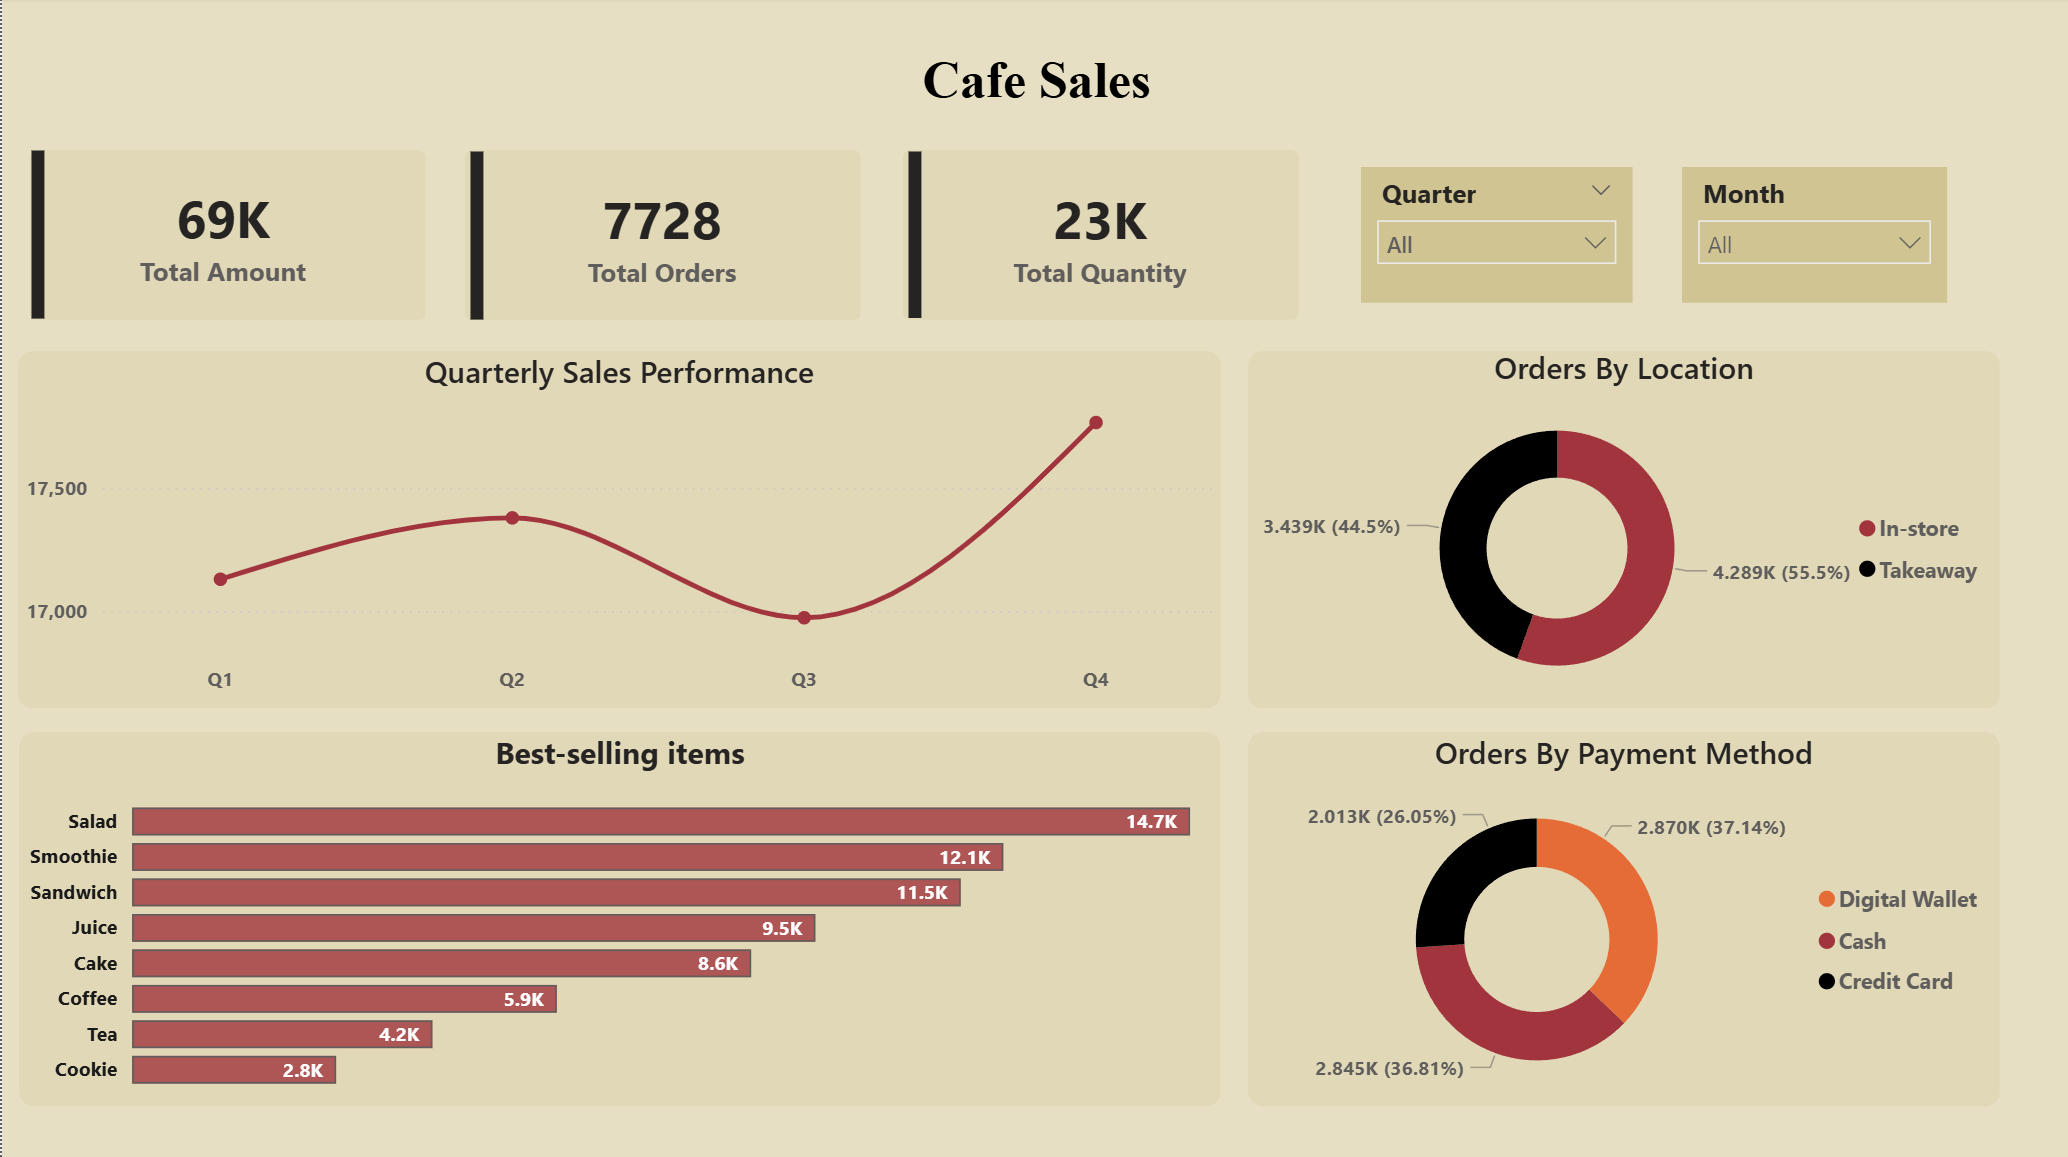

The page's visual inventory and layout, read from the dashboard file:
{"tool":"powerbi","page":{"name":"Cafe Sales","canvas":[1280,720],"ordinal":0},"visuals":[{"type":"shape","box":[770.9,454.2,465.3,231.7],"z":0},{"type":"shape","box":[10.5,454.2,743.4,231.7],"z":1000},{"type":"shape","box":[557.5,94.2,244.7,105.4],"z":2000},{"type":"shape","box":[286.6,94.2,244.7,105.4],"z":3000},{"type":"shape","box":[17,94.2,244.7,105.4],"z":4000},{"type":"shape","box":[770.9,218.6,465.3,221.2],"z":5000},{"type":"shape","box":[9.8,218.6,744,221.2],"z":6000},{"type":"textbox","box":[0,27.5,1280,50.4],"z":7000},{"type":"cardVisual","fields":{"Data":["cleaned_cafe_sales.Total Orders"]},"box":[272.9,77.9,271.6,138.1],"z":8000},{"type":"lineChart","title":"Quarterly Sales Performance","fields":{"Y":["cleaned_cafe_sales.Total Amount"],"Category":["cleaned_cafe_sales.Quarter"]},"box":[9.8,218.6,744,221.2],"z":9000},{"type":"donutChart","title":"Orders By Payment Method","fields":{"Category":["cleaned_cafe_sales.Payment Method"],"Y":["cleaned_cafe_sales.Total Orders"]},"box":[770.9,454.2,465.3,231.7],"z":10000},{"type":"donutChart","title":"Orders By Location","fields":{"Category":["cleaned_cafe_sales.Location"],"Y":["cleaned_cafe_sales.Total Orders"]},"box":[770.9,216,465.3,223.8],"z":11000},{"type":"barChart","title":"Best-selling items","fields":{"Category":["cleaned_cafe_sales.Item"],"Y":["cleaned_cafe_sales.Total Amount"]},"box":[10.5,454.2,743.4,231.7],"z":12000},{"type":"slicer","fields":{"Values":["cleaned_cafe_sales.Quarter"]},"box":[840.9,104.7,167.5,83.8],"z":13000},{"type":"slicer","fields":{"Values":["cleaned_cafe_sales.Month Name"]},"box":[1039.2,104.7,163.6,83.8],"z":14000},{"type":"cardVisual","fields":{"Data":["cleaned_cafe_sales.Total Quantity"]},"box":[543.8,77.9,271.6,137.4],"z":15000},{"type":"cardVisual","fields":{"Data":["cleaned_cafe_sales.Total Amount"]},"box":[1.3,77.2,271.6,138.1],"z":16000}]}

Visuals, with their boxes in screenshot pixels (x1, y1, x2, y2), scaled from the page's 1280x720 canvas onto the 2068x1157 screenshot:
shape: Rect(1245, 730, 1997, 1102)
shape: Rect(17, 730, 1218, 1102)
shape: Rect(901, 151, 1296, 321)
shape: Rect(463, 151, 858, 321)
shape: Rect(27, 151, 423, 321)
shape: Rect(1245, 351, 1997, 707)
shape: Rect(16, 351, 1218, 707)
textbox: Rect(0, 44, 2067, 125)
cardVisual - cleaned_cafe_sales.Total Orders: Rect(441, 125, 880, 347)
"Quarterly Sales Performance" lineChart: Rect(16, 351, 1218, 707)
"Orders By Payment Method" donutChart: Rect(1245, 730, 1997, 1102)
"Orders By Location" donutChart: Rect(1245, 347, 1997, 707)
"Best-selling items" barChart: Rect(17, 730, 1218, 1102)
slicer - cleaned_cafe_sales.Quarter: Rect(1359, 168, 1629, 303)
slicer - cleaned_cafe_sales.Month Name: Rect(1679, 168, 1943, 303)
cardVisual - cleaned_cafe_sales.Total Quantity: Rect(879, 125, 1317, 346)
cardVisual - cleaned_cafe_sales.Total Amount: Rect(2, 124, 441, 346)
